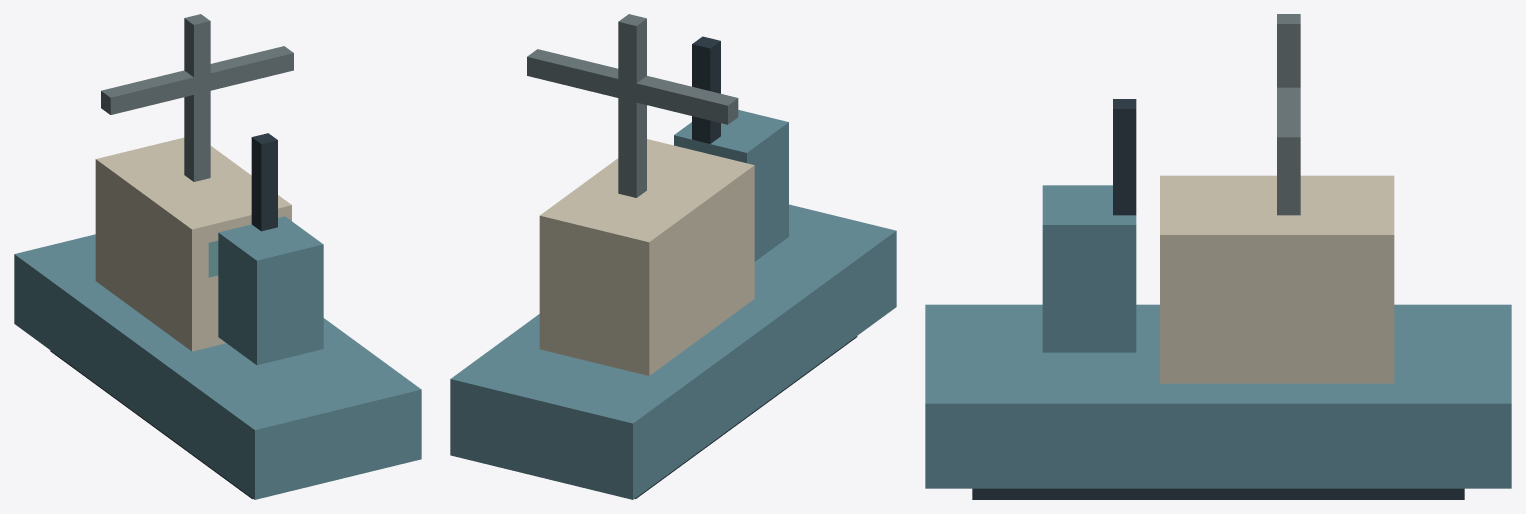
File: ocean-03.glb
3 renders of one model, left to right at view 1: azimuth 30°, elevation 25°; view 2: azimuth 150°, elevation 25°; view 3: azimuth 270°, elevation 25°, orthographic. The views are drawn at different scales.
Visible parts, largest first — view 1: Submarine; view 2: Submarine; view 3: Submarine.
Boxes of the visible parts, x1,y1,x2,y2 form: Submarine: (14, 14, 421, 499); Submarine: (450, 14, 896, 499); Submarine: (925, 14, 1511, 499).
Bounding box in the file's own units: 0.88 × 1.68 × 2.
